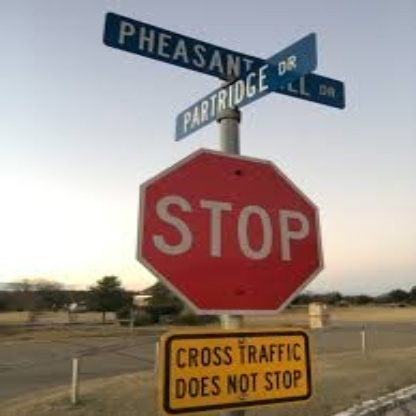stop: (137, 147, 326, 314)
